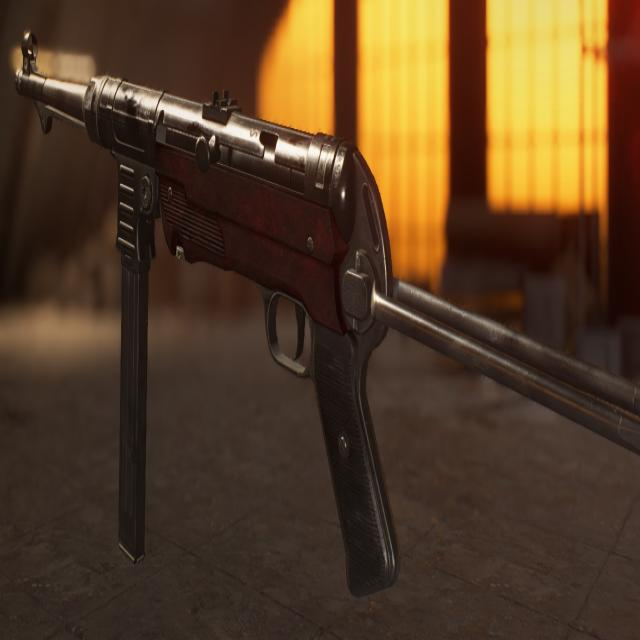SMG: (16, 74, 640, 601)
